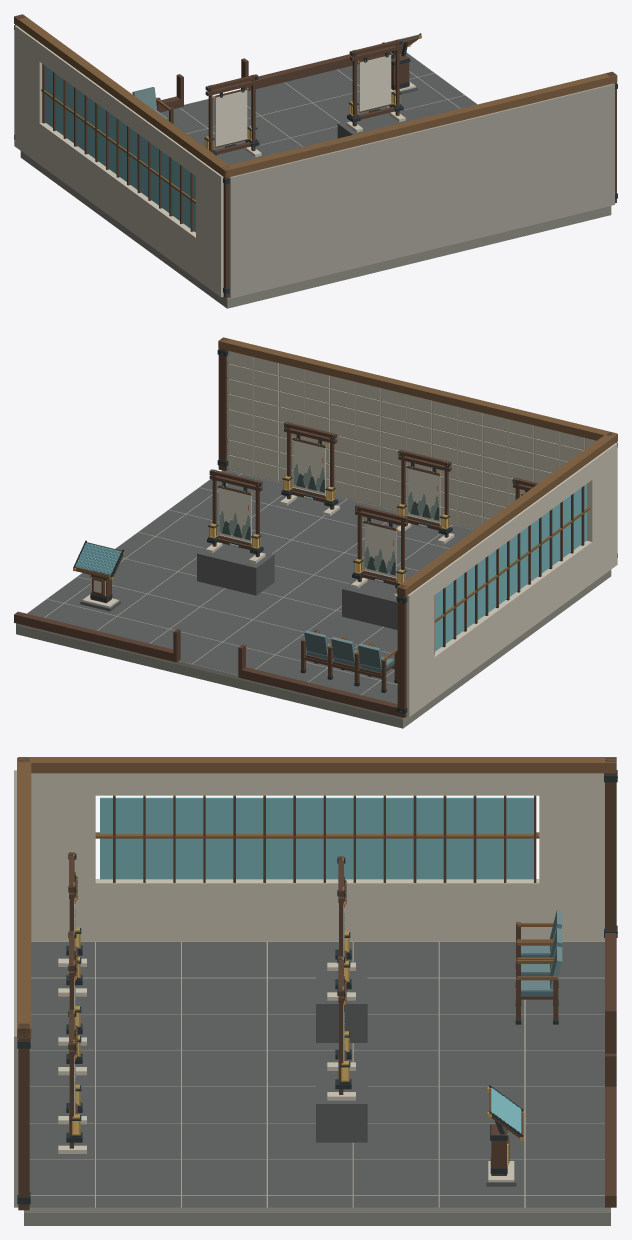
3 renders of one model, top to bottom at view 1: azimuth 30°, elevation 25°; view 2: azimuth 150°, elevation 25°; view 3: azimuth 270°, elevation 25°, orthographic. The views are drawn at different scales.
Visible parts, largest first — view 1: 真实窗洞、木梁与切角房间墙, 分层实心台基与独立石铺面, 画框及展架 (×2), 独立石质展画承台 (×2), 展陈介绍牌, 三席连座与连续倾斜靠背; view 2: 真实窗洞、木梁与切角房间墙, 分层实心台基与独立石铺面, 画框及展架 (×4), 独立石质展画承台 (×2), 三席连座与连续倾斜靠背, 展陈介绍牌; view 3: 分层实心台基与独立石铺面, 真实窗洞、木梁与切角房间墙, 画框及展架 (×5), 独立石质展画承台 (×2), 三席连座与连续倾斜靠背, 展陈介绍牌.
Boxes of the visible parts, box(x1,y1,x2,y2) form: 真实窗洞、木梁与切角房间墙: box(14, 14, 617, 298); 分层实心台基与独立石铺面: box(20, 52, 611, 308); 画框及展架 (×2): box(204, 39, 405, 157); 独立石质展画承台 (×2): box(216, 112, 411, 164); 展陈介绍牌: box(382, 33, 421, 96); 三席连座与连续倾斜靠背: box(132, 87, 173, 124); 真实窗洞、木梁与切角房间墙: box(14, 337, 617, 717); 分层实心台基与独立石铺面: box(16, 470, 611, 728); 画框及展架 (×4): box(206, 422, 454, 598); 独立石质展画承台 (×2): box(197, 543, 397, 629); 三席连座与连续倾斜靠背: box(300, 630, 397, 692); 展陈介绍牌: box(73, 540, 124, 611); 分层实心台基与独立石铺面: box(24, 941, 610, 1225); 真实窗洞、木梁与切角房间墙: box(14, 757, 617, 1210); 画框及展架 (×5): box(58, 852, 355, 1153); 独立石质展画承台 (×2): box(316, 963, 367, 1142); 三席连座与连续倾斜靠背: box(515, 909, 562, 1024); 展陈介绍牌: box(486, 1084, 524, 1186).
Size of the model in its own units: 9.04 by 3.08 by 8.44.
18 materials, 18 textured.
